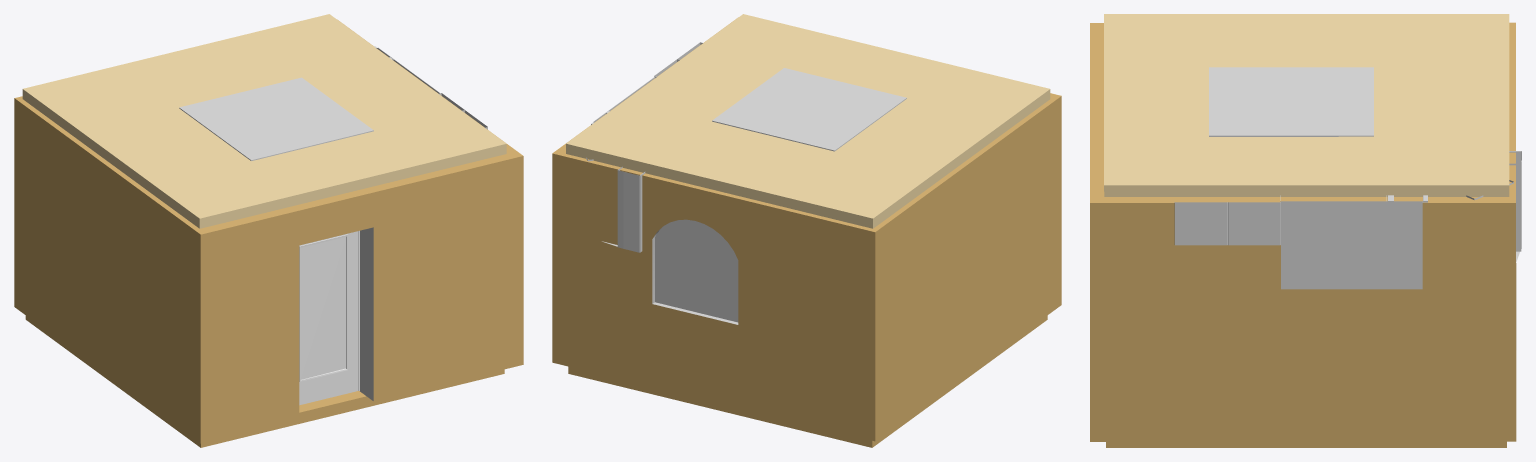
File: FloorPlan25_physics.fbx
3 views of the same model, side by side, from view 1: azimuth 30°, elevation 25°; view 2: azimuth 150°, elevation 25°; view 3: azimuth 270°, elevation 25° (orthographic). The views are drawn at different scales.
Visible parts, largest first — view 1: Room.027, Ceiling.003, Door, Floor.003; view 2: Room.027, Ceiling.003, Window, Floor.003, Cube.228; view 3: Room.027, Ceiling.003, Cube.228, Floor.003.
Part boxes in pixels (box(x1,y1,x2,y2)): Room.027: box(14, 19, 523, 443); Ceiling.003: box(22, 14, 506, 228); Door: box(299, 231, 358, 405); Floor.003: box(25, 315, 504, 447); Room.027: box(552, 17, 1061, 441); Ceiling.003: box(566, 14, 1050, 228); Window: box(655, 219, 738, 322); Floor.003: box(568, 315, 1047, 447); Cube.228: box(586, 42, 702, 252); Room.027: box(1090, 22, 1516, 441); Ceiling.003: box(1104, 14, 1509, 196); Cube.228: box(1174, 151, 1521, 289); Floor.003: box(1106, 441, 1506, 447).
Bounding box in the file's own units: 356 × 243 × 359.
